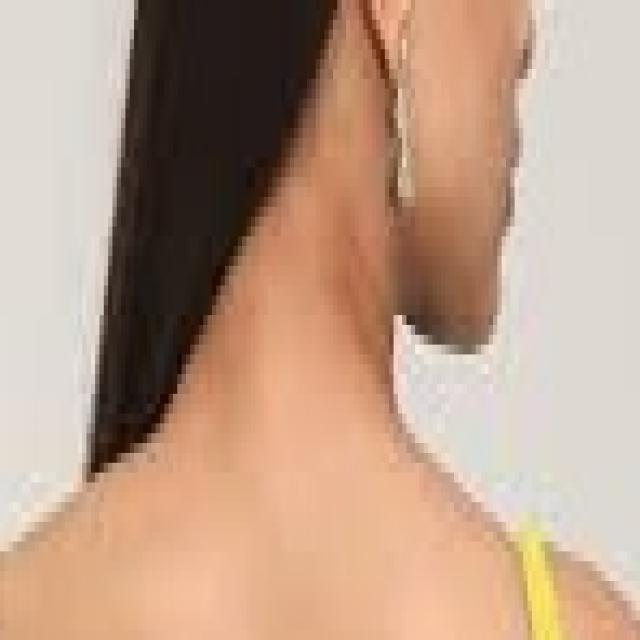Healthy: (89, 12, 463, 493)
